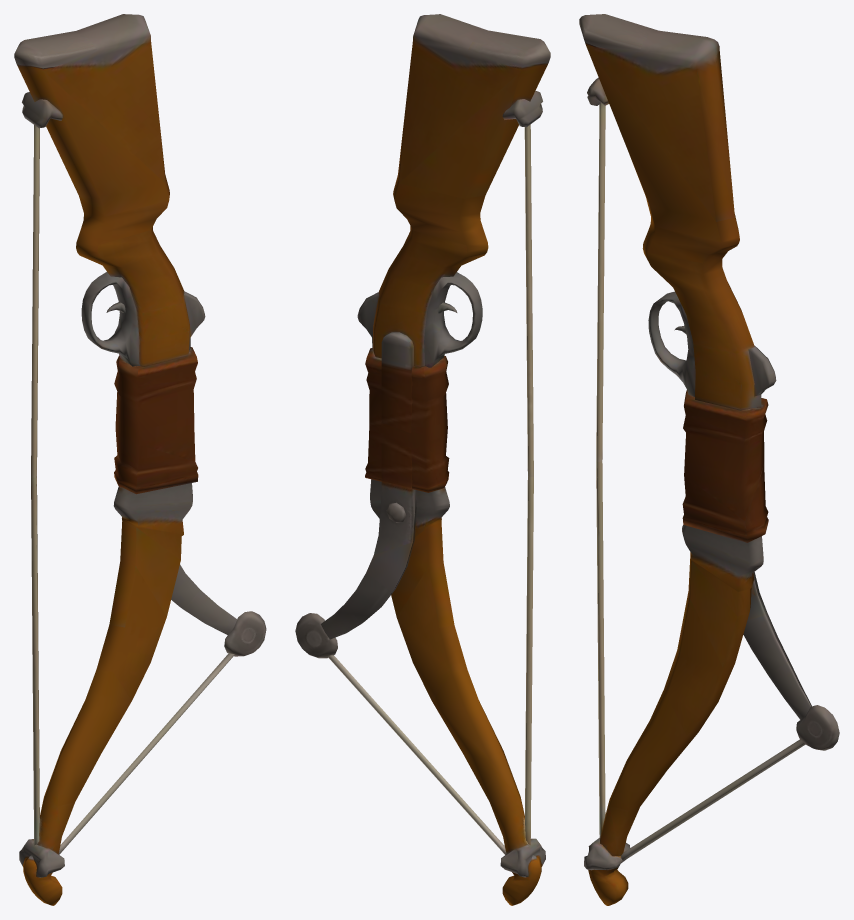
File: crossbow_starter.glb
3 renders of one model, left to right at view 1: azimuth 30°, elevation 25°; view 2: azimuth 150°, elevation 25°; view 3: azimuth 330°, elevation 25°, orthographic. The views are drawn at different scales.
Visible parts, largest first — view 1: tripo_node_97f77659-60cc-4d2d-868c-5c17e9a71bb6; view 2: tripo_node_97f77659-60cc-4d2d-868c-5c17e9a71bb6; view 3: tripo_node_97f77659-60cc-4d2d-868c-5c17e9a71bb6.
Part boxes in pixels (box(x1,y1,x2,y2)): tripo_node_97f77659-60cc-4d2d-868c-5c17e9a71bb6: box(14, 14, 266, 905); tripo_node_97f77659-60cc-4d2d-868c-5c17e9a71bb6: box(295, 14, 550, 905); tripo_node_97f77659-60cc-4d2d-868c-5c17e9a71bb6: box(579, 14, 839, 905).
Size of the model in its own units: 0.4288 by 1.4 by 0.0819.
1 material, 1 textured.
